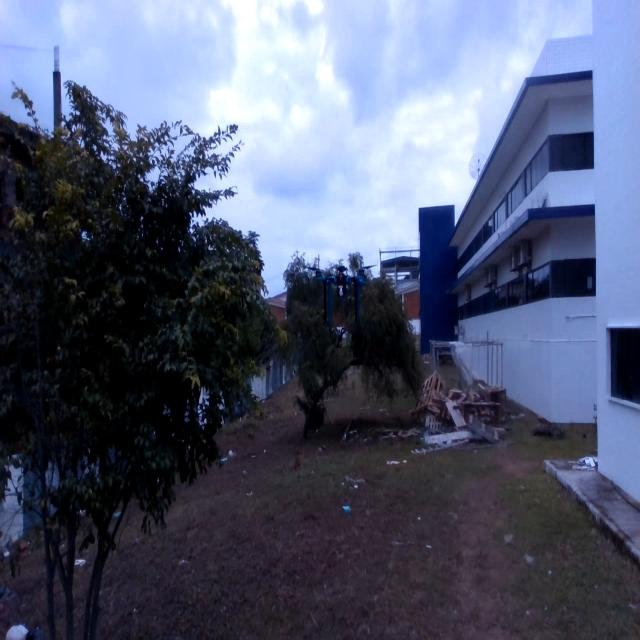-uav-: (310, 262, 377, 326)
